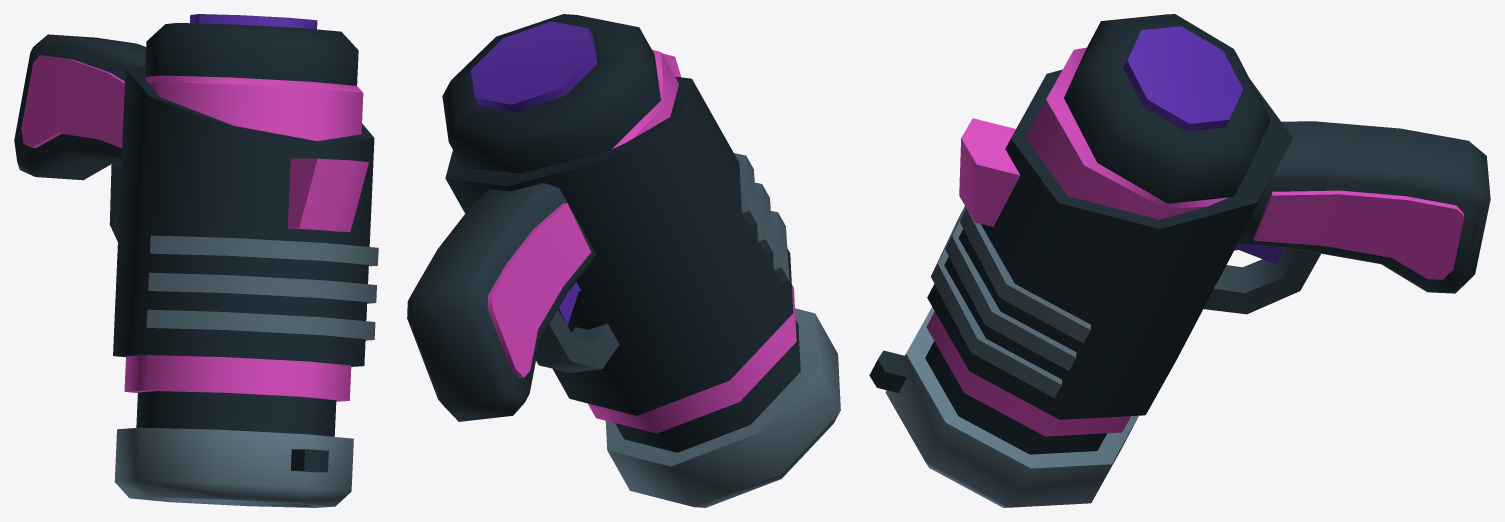
File: Level4-5Gun.fbx
3 views of the same model, side by side, from view 1: azimuth 30°, elevation 25°; view 2: azimuth 150°, elevation 25°; view 3: azimuth 270°, elevation 25° (orthographic). The views are drawn at different scales.
Parts seen in each view (by area): view 1: Gun_05_Pink; view 2: Gun_05_Pink; view 3: Gun_05_Pink.
Part boxes in pixels (x1=…): Gun_05_Pink: x1=14, y1=14, x2=378, y2=507; Gun_05_Pink: x1=407, y1=14, x2=840, y2=507; Gun_05_Pink: x1=869, y1=14, x2=1490, y2=507.
Bounding box in the file's own units: 35.01 × 52.92 × 60.88.
Materials: 1 (1 with a texture image).
